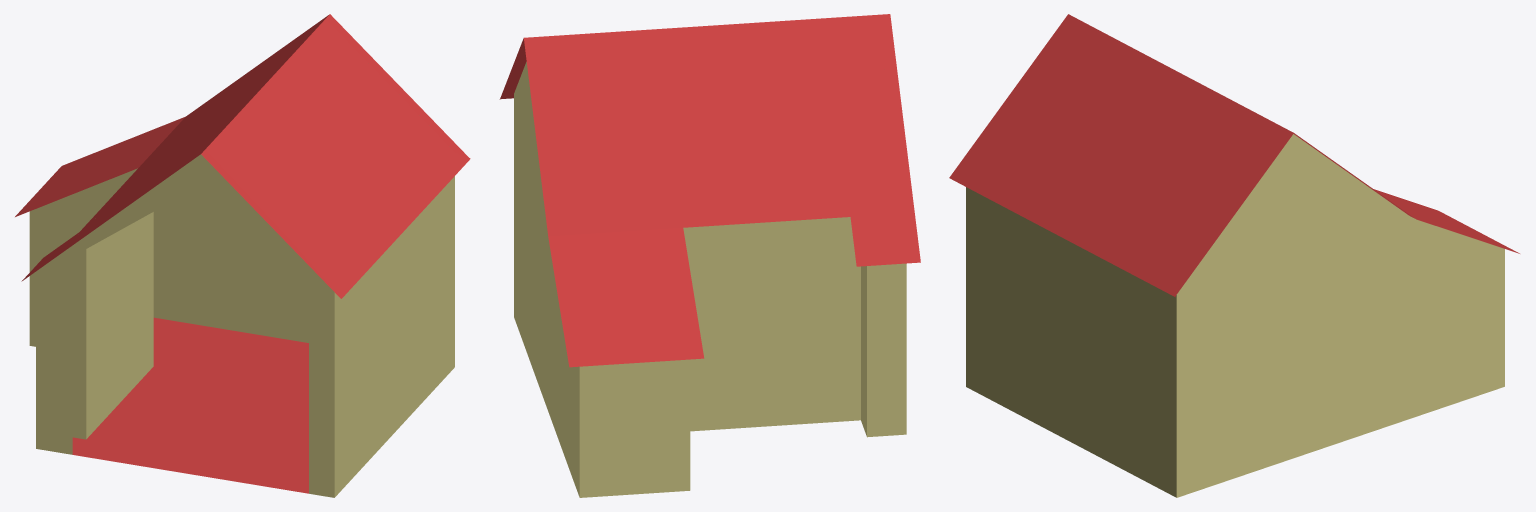
3 renders of one model, left to right at view 1: azimuth 30°, elevation 25°; view 2: azimuth 150°, elevation 25°; view 3: azimuth 270°, elevation 25°, orthographic. The views are drawn at different scales.
Bounding box in the file's own units: 20.7 × 23.69 × 15.14.
